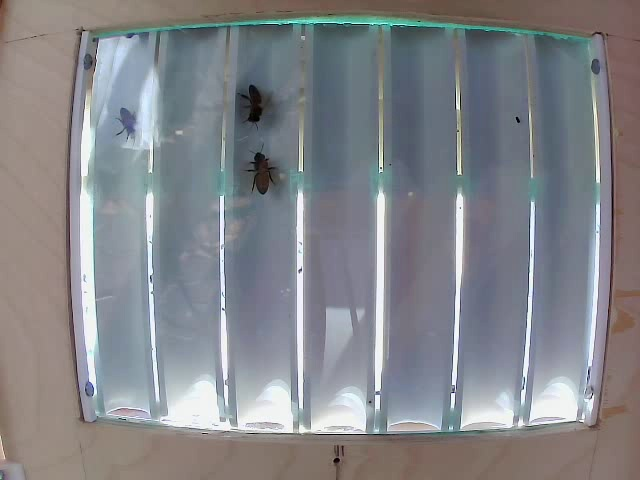bee: (241, 144, 286, 204), (242, 65, 273, 129), (114, 112, 163, 148)
